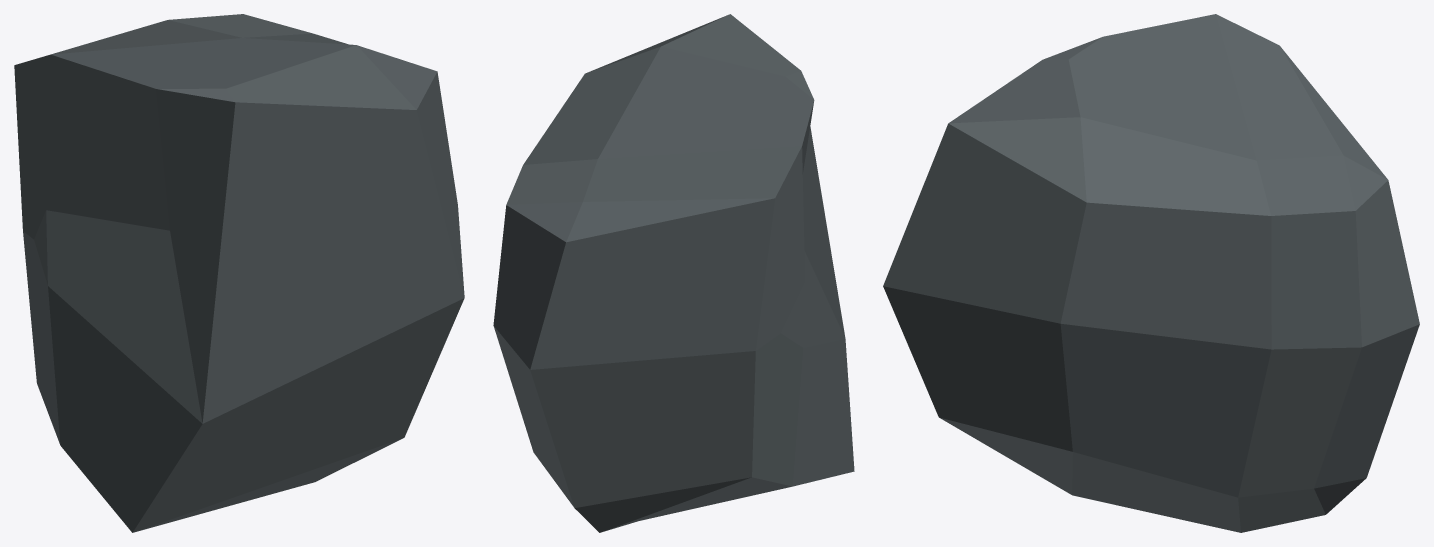
The model's file is Nugget1_Grey.fbx.
The picture shows the model from 3 angles, left to right: view 1: azimuth 30°, elevation 25°; view 2: azimuth 150°, elevation 25°; view 3: azimuth 270°, elevation 25°; orthographic projection. The views are drawn at different scales.
Parts seen in each view (by area): view 1: Nugget1_Grey; view 2: Nugget1_Grey; view 3: Nugget1_Grey.
Part boxes in pixels (x1,y1,x2,y2): Nugget1_Grey: (14,14,464,532); Nugget1_Grey: (493,14,854,532); Nugget1_Grey: (883,14,1419,532).
Size of the model in its own units: 25.47 by 34.73 by 38.13.
